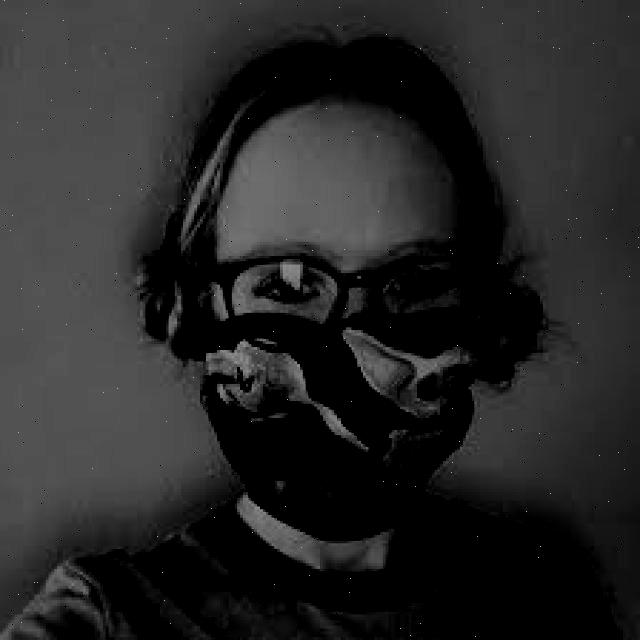fake: (198, 312, 493, 540)
real: (209, 88, 483, 546)
